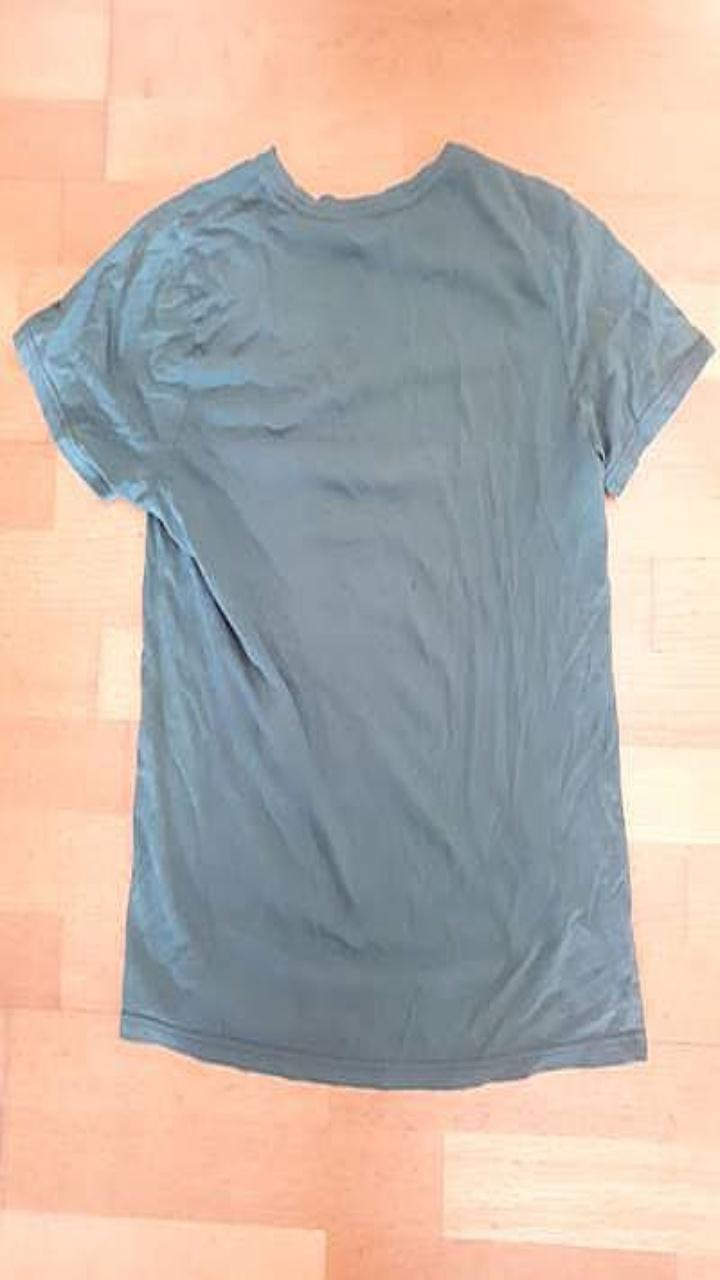T-Shirt: (14, 142, 714, 1087)
